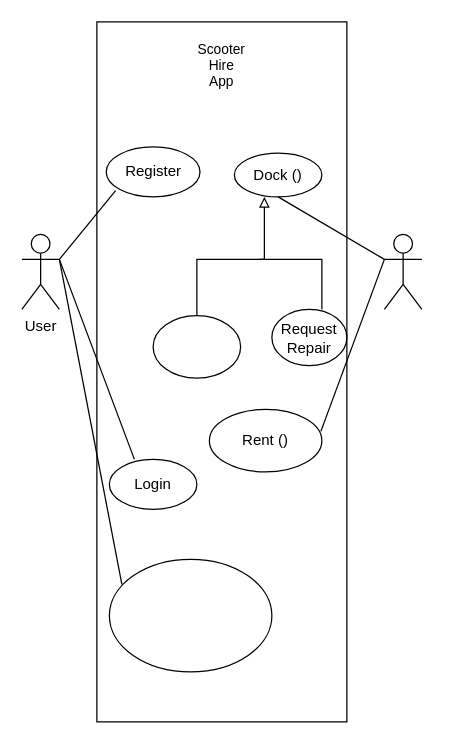
Image size: 450x744. Some labels were removed from this diagram. Each missing label, with the box of its shape:
Add User details: name, password, age. To registeredUsers object: (108, 558, 272, 672)
Recharge: (152, 314, 241, 378)
Scooter: (383, 233, 422, 309)
